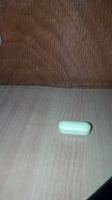Aferin: (58, 119, 93, 137)
